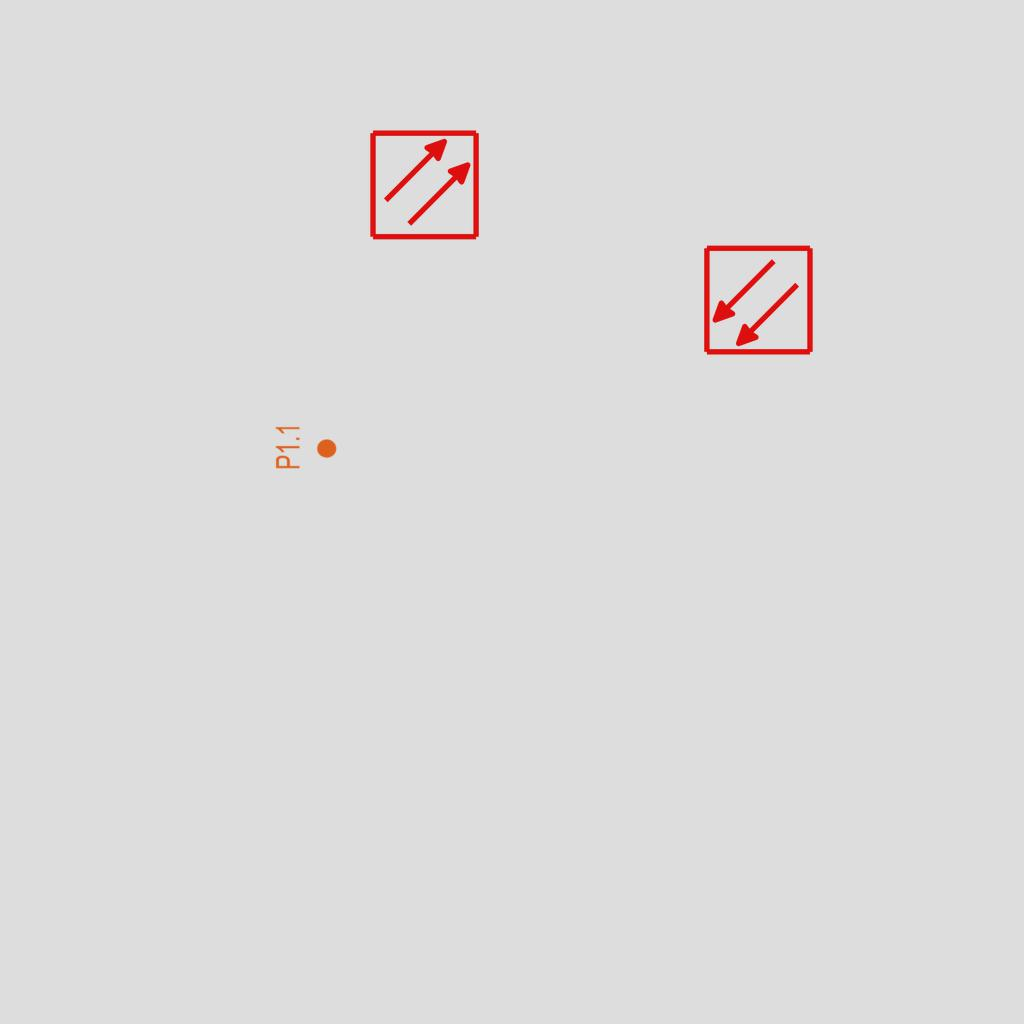Downlight_LED_Einbauleuchten_Flur: (274, 424, 338, 470)
RMO_Rauchmelder_optischer: (702, 244, 815, 357), (368, 128, 481, 241)
